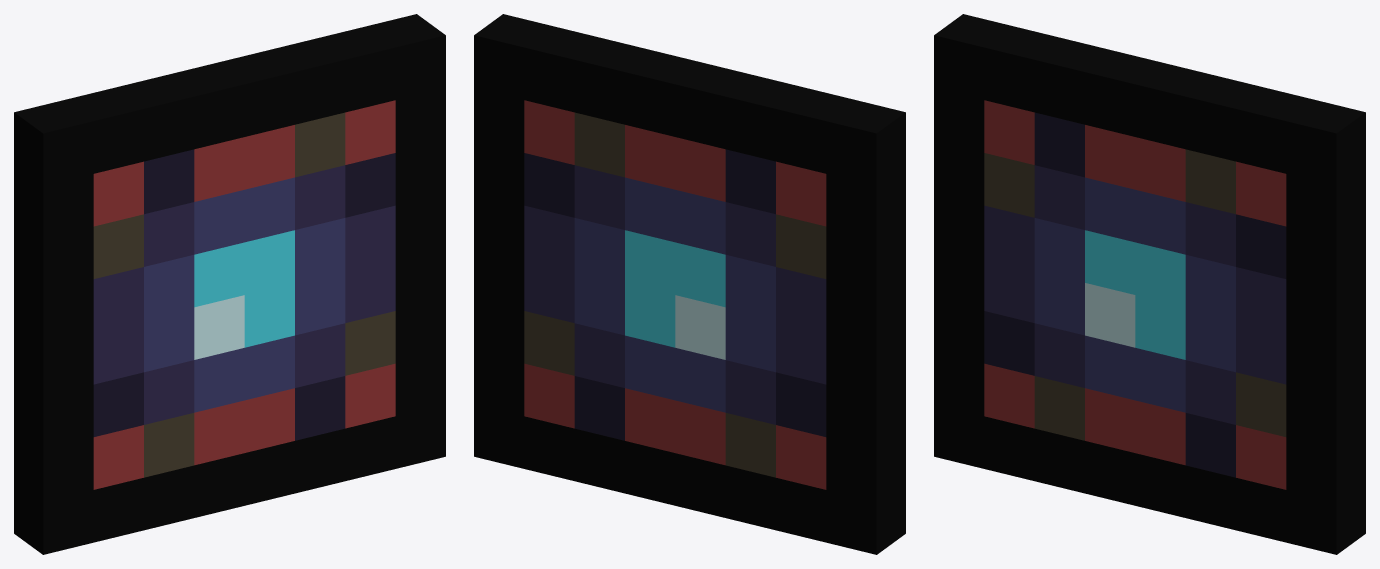
The model's file is Draugr Knight Spawner Block.glb.
3 renders of one model, left to right at view 1: azimuth 30°, elevation 25°; view 2: azimuth 150°, elevation 25°; view 3: azimuth 330°, elevation 25°, orthographic.
Visible parts, largest first — view 1: generated(Clone); view 2: generated(Clone); view 3: generated(Clone).
Part boxes in pixels (bbox=[...]): generated(Clone): bbox=[14, 14, 445, 554]; generated(Clone): bbox=[474, 14, 905, 554]; generated(Clone): bbox=[934, 14, 1365, 554].
Size of the model in its own units: 8 by 8 by 1.
1 material, 1 textured.
